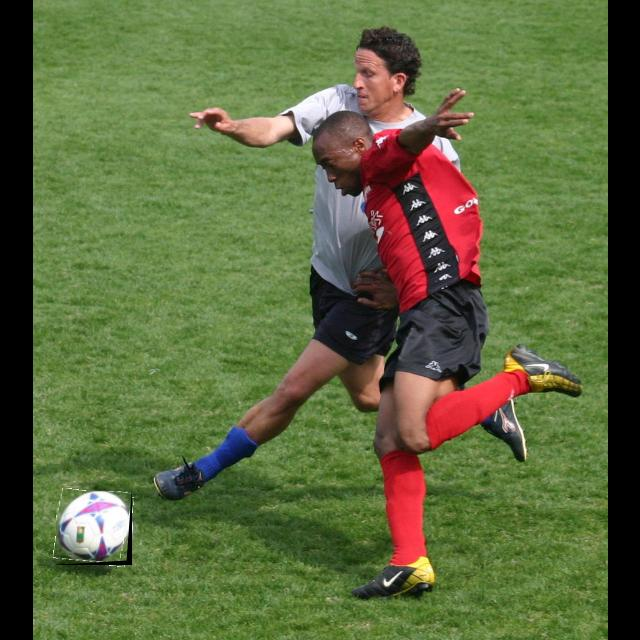Football: (56, 491, 132, 565)
